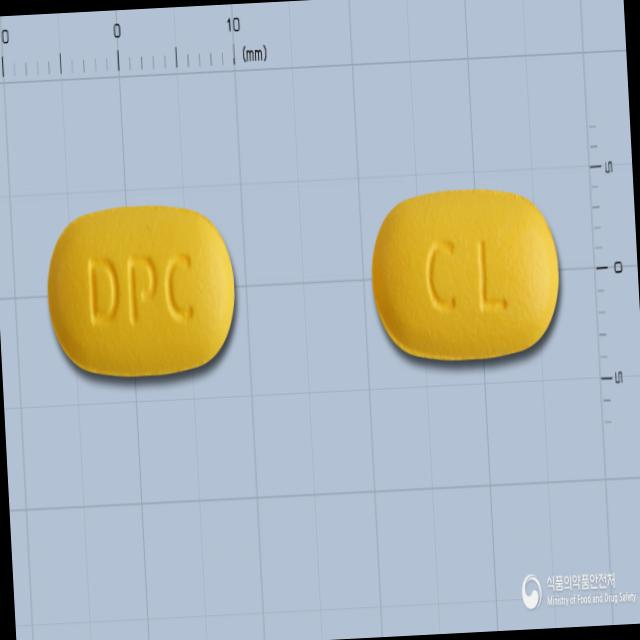Clarithromycin Tab- Dongkwang: (40, 196, 244, 388), (367, 185, 565, 366)
